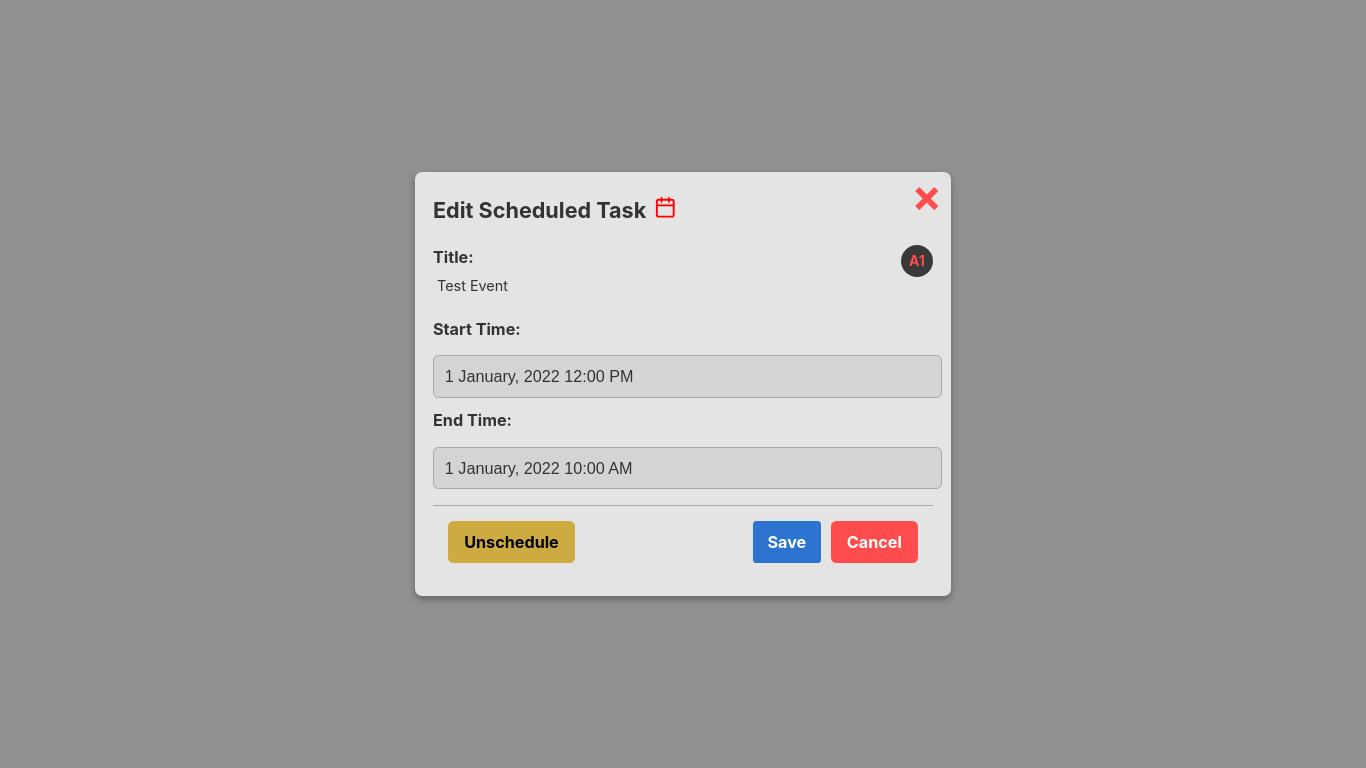
Test: ScheduleEditModal - Integration Tests › shows error when end time is earlier than start time
Click the button "Save". click: [787, 542]
box: [753,522,821,563]
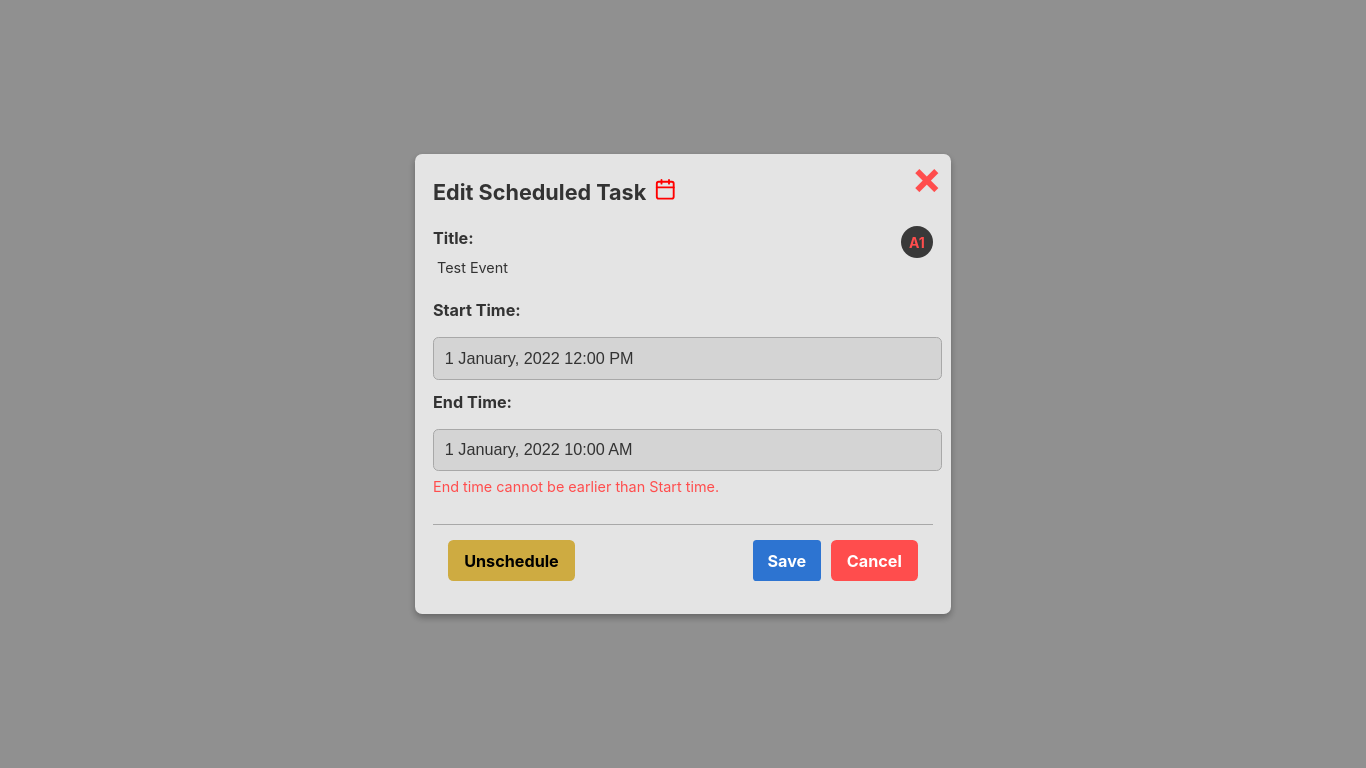
expect the text "End time cannot be earlier than Start time." is shown: met, box [433,478,719,495]
